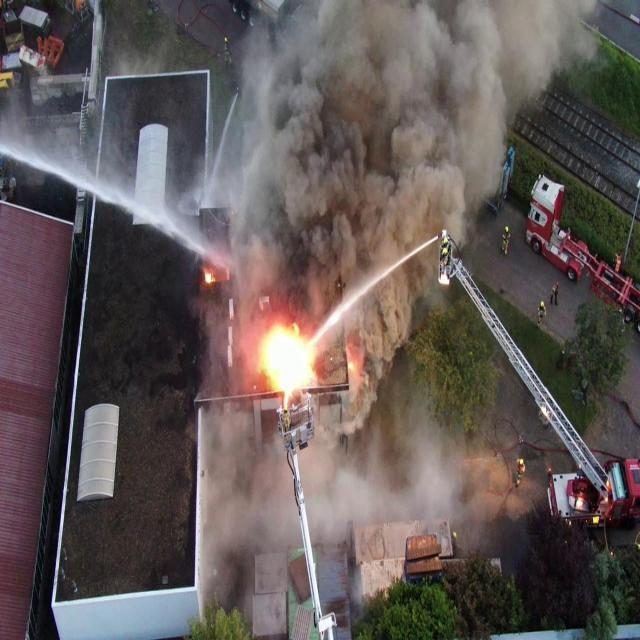Fire: (259, 322, 316, 395), (204, 272, 217, 282), (347, 362, 354, 370)
Smoke: (198, 0, 600, 585)
